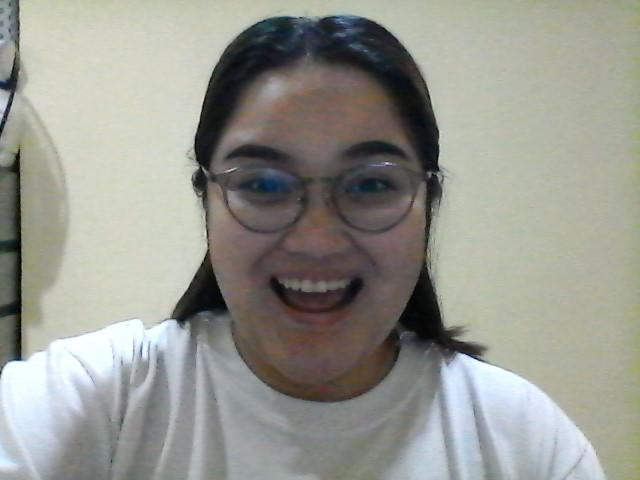senang: (206, 65, 433, 355)
